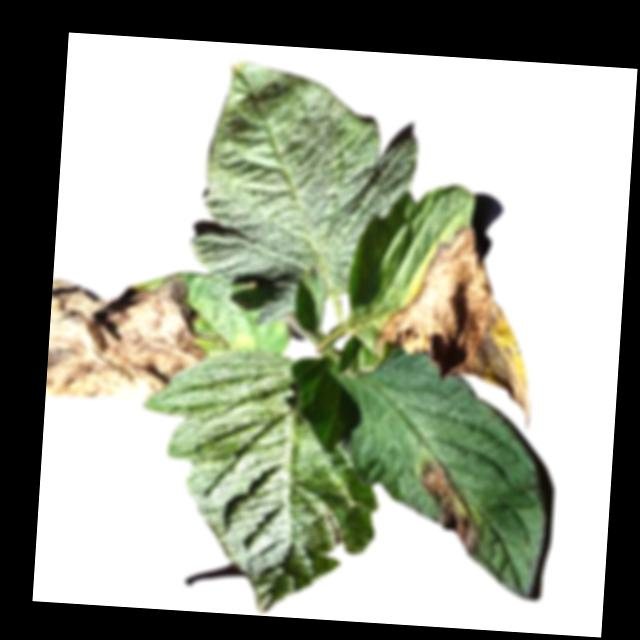Late_blight: (367, 218, 540, 429), (45, 264, 211, 410), (416, 462, 483, 555)
healthy: (130, 345, 389, 622), (186, 59, 425, 333)
